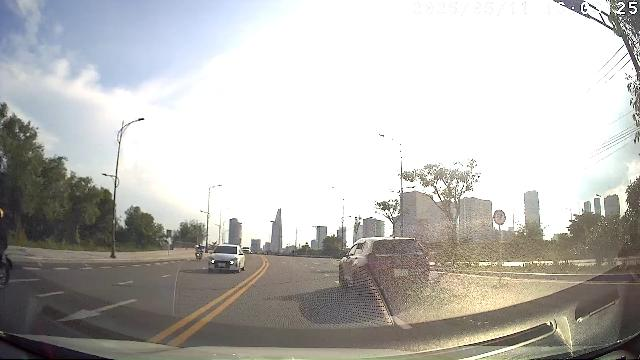127-toc-do-toi-da-50: (494, 209, 506, 224)
